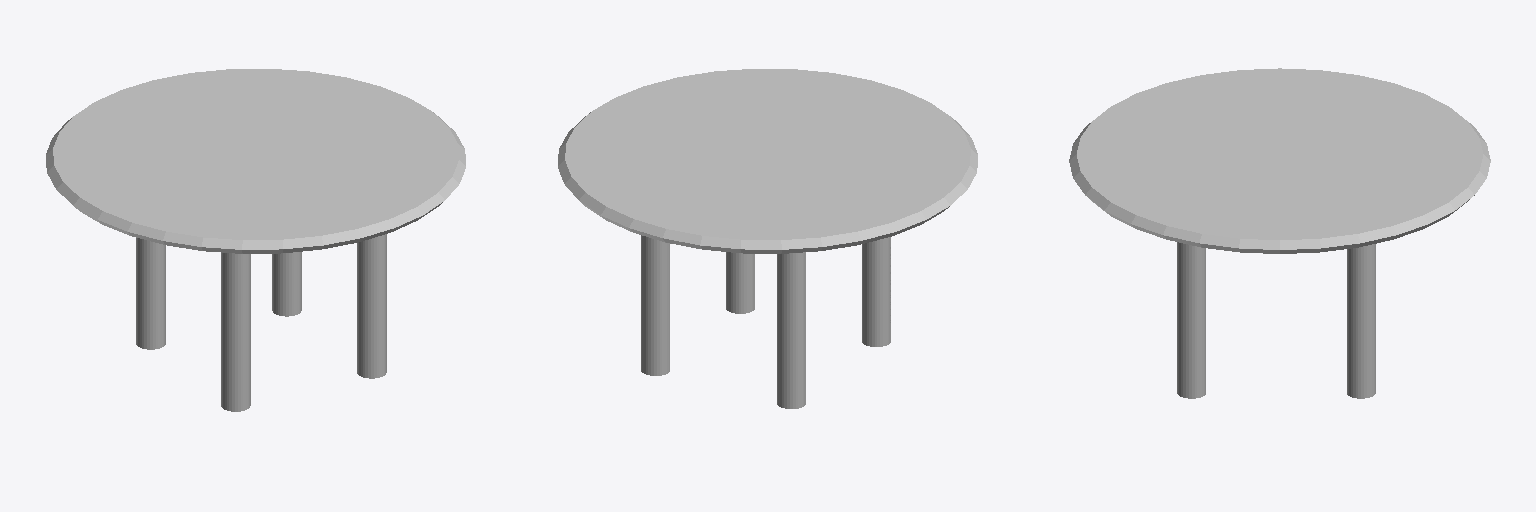
File: roundtable.obj
The picture shows the model from 3 angles: view 1: azimuth 30°, elevation 25°; view 2: azimuth 150°, elevation 25°; view 3: azimuth 270°, elevation 25°; orthographic projection.
Visible parts, largest first — view 1: Cylinder.003; view 2: Cylinder.003; view 3: Cylinder.003.
Part boxes in pixels (x1,y1,x2,y2): Cylinder.003: (46, 69, 465, 411); Cylinder.003: (558, 69, 977, 408); Cylinder.003: (1069, 68, 1490, 398).
Size of the model in its own units: 6.66 by 3.54 by 6.66.